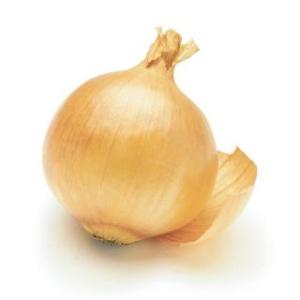onion: (42, 27, 218, 247)
